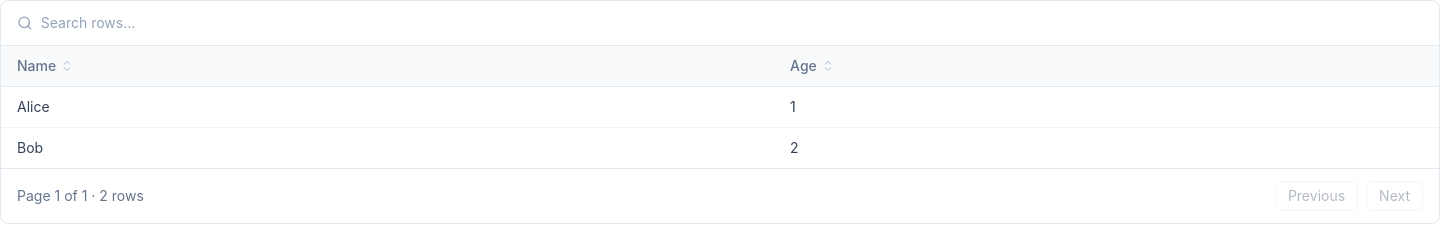
Test case: DataTable — client mode › narrows visible rows via the internal filter input
This screenshot has width=1440, height=241.
Type "ali" into the field with placeholder "Search rows…" at (732,23), box [41,13,1423,33]
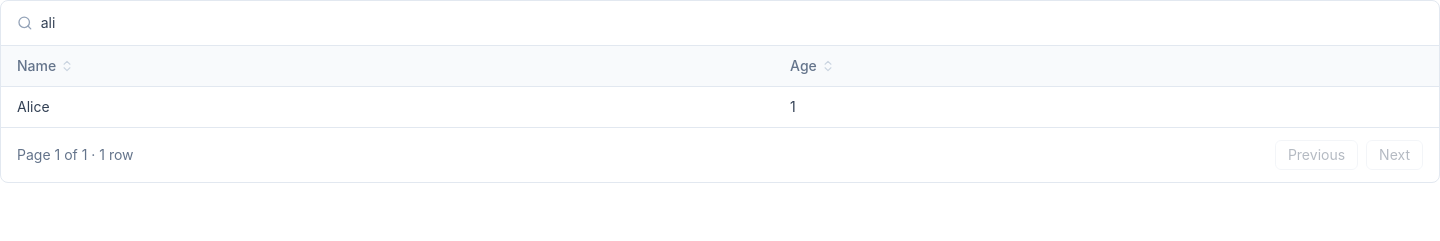
Expected: the text "Alice" is shown, [1,86,774,127]
Expected: the text "Bob" is gone
